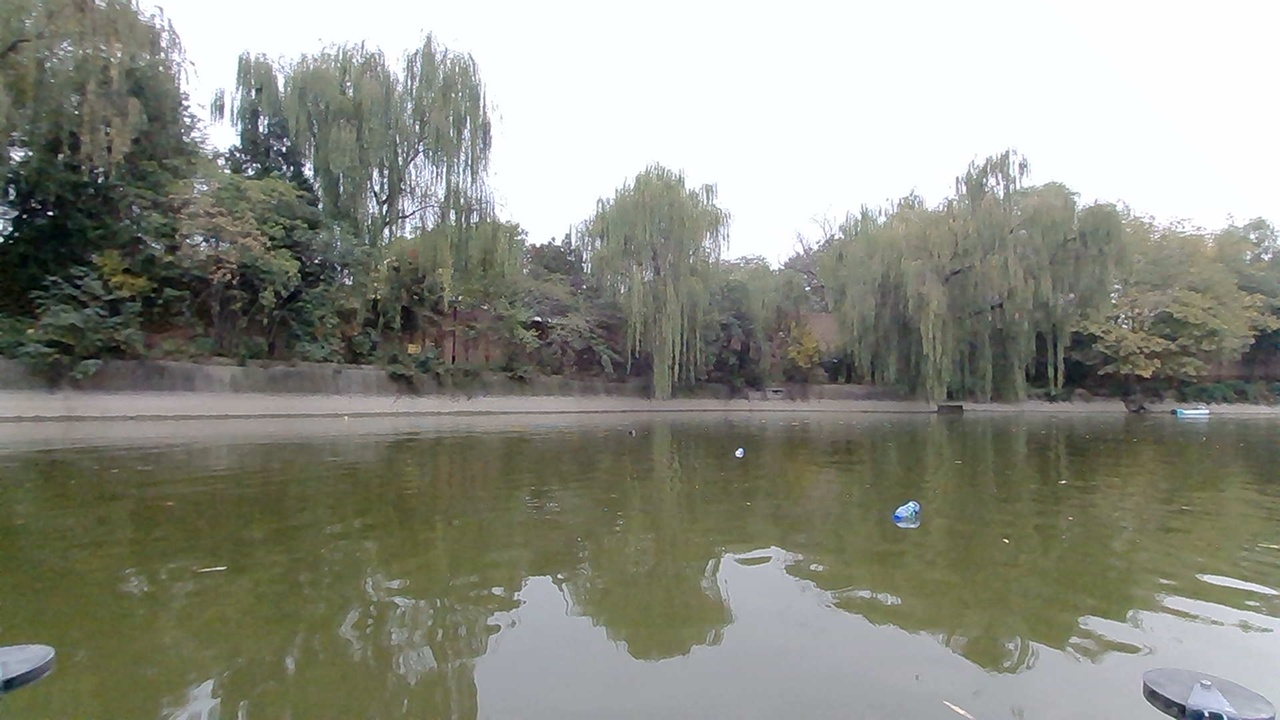bottle: (876, 482, 934, 532), (718, 433, 757, 462), (620, 419, 648, 445)
